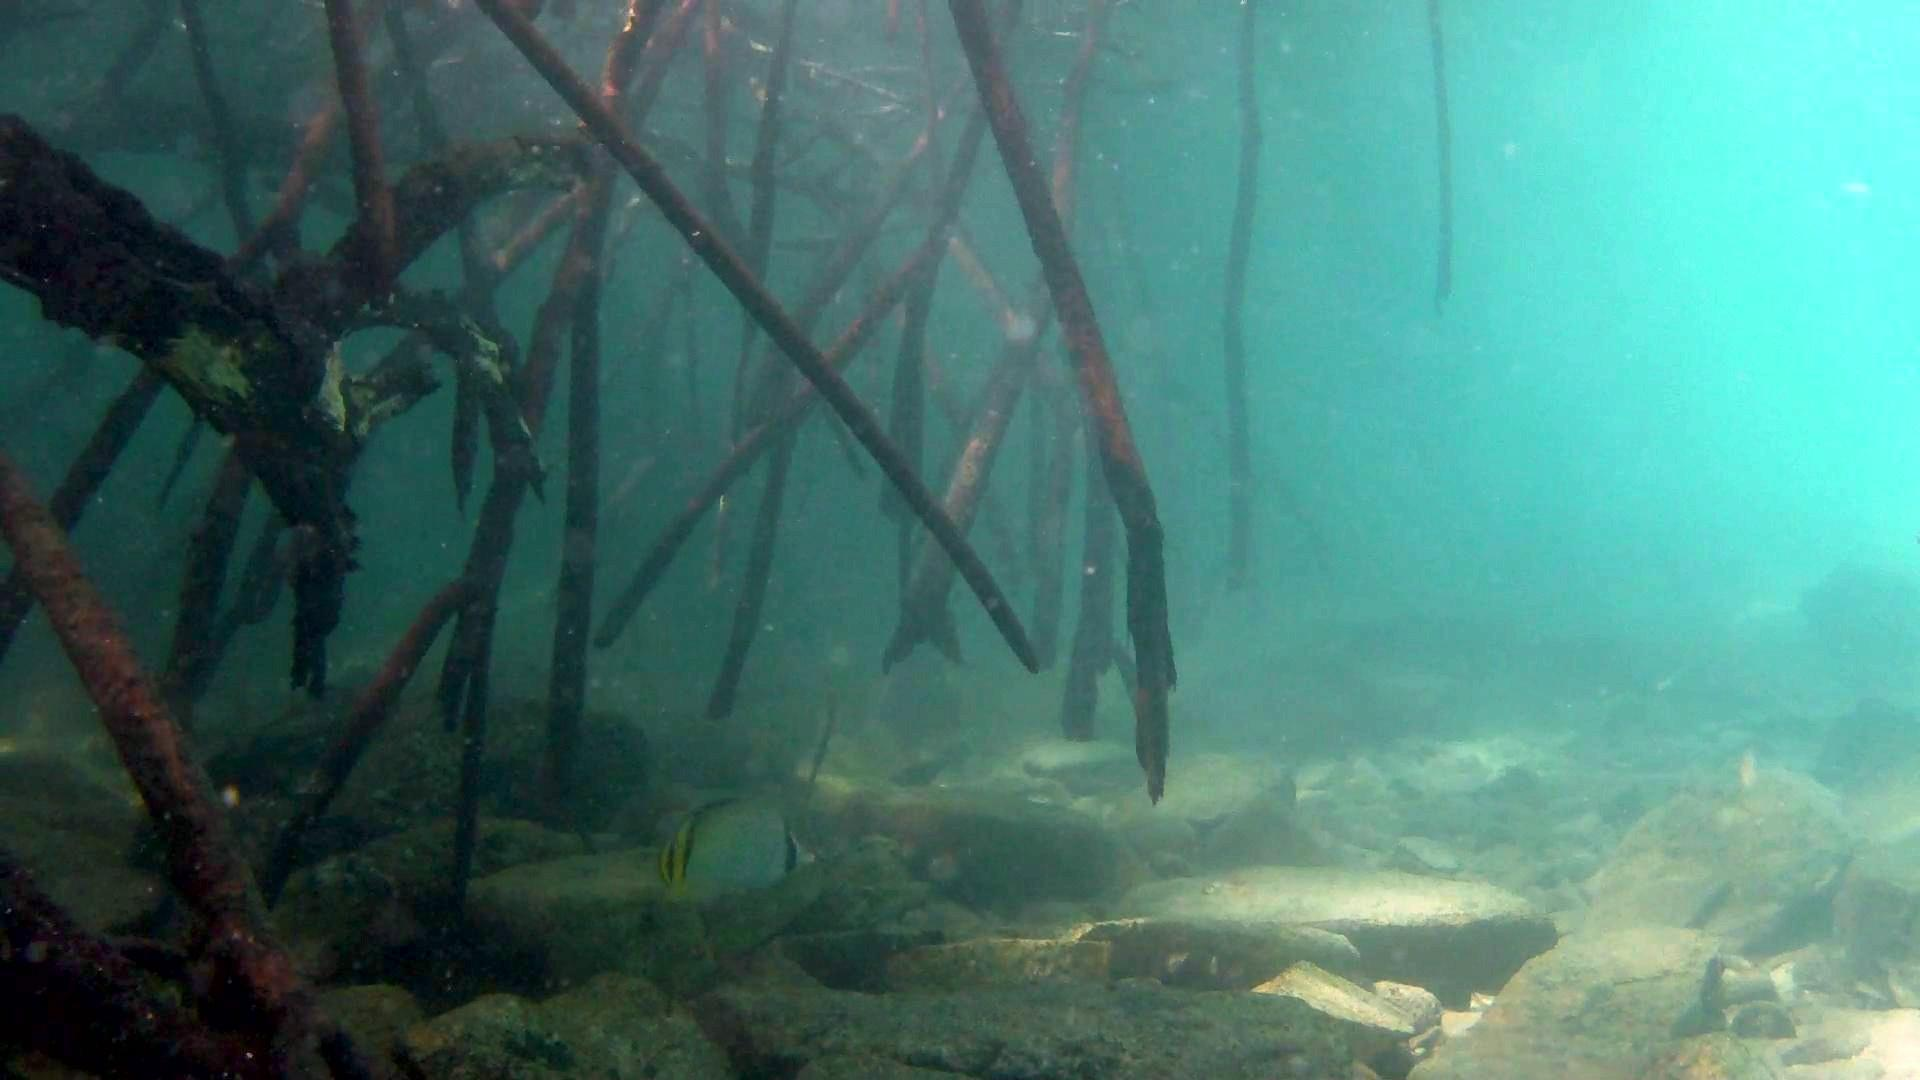chaetodon vagabundus: (650, 791, 820, 907)
